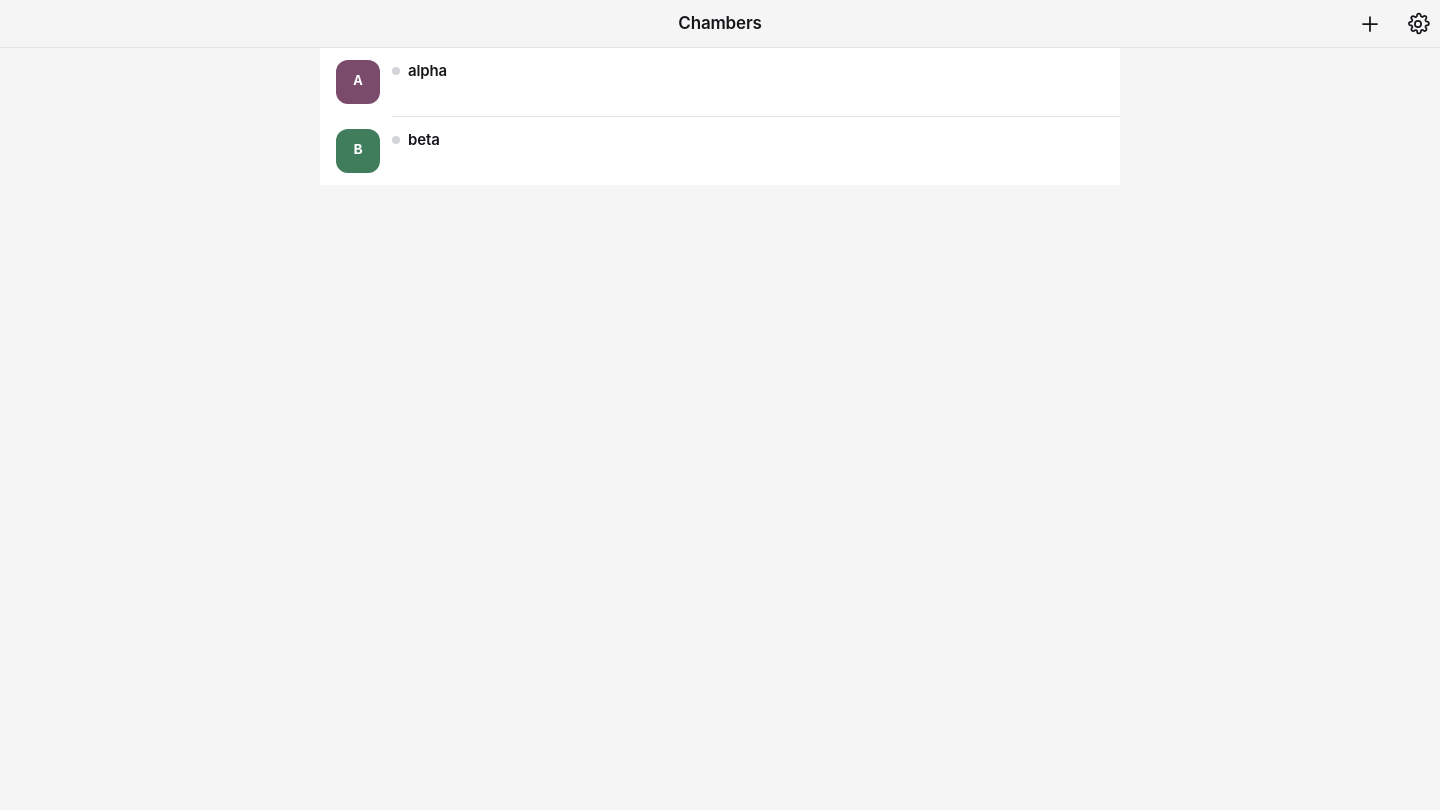
Scenario: new chamber › an owner gets a + button that opens the sheet
The image size is (1440, 810).
What coordinates should you click on to do the following:
click the button named "New chamber"
I would click on:
 (1370, 24)
Its box is [1348,2,1392,46].
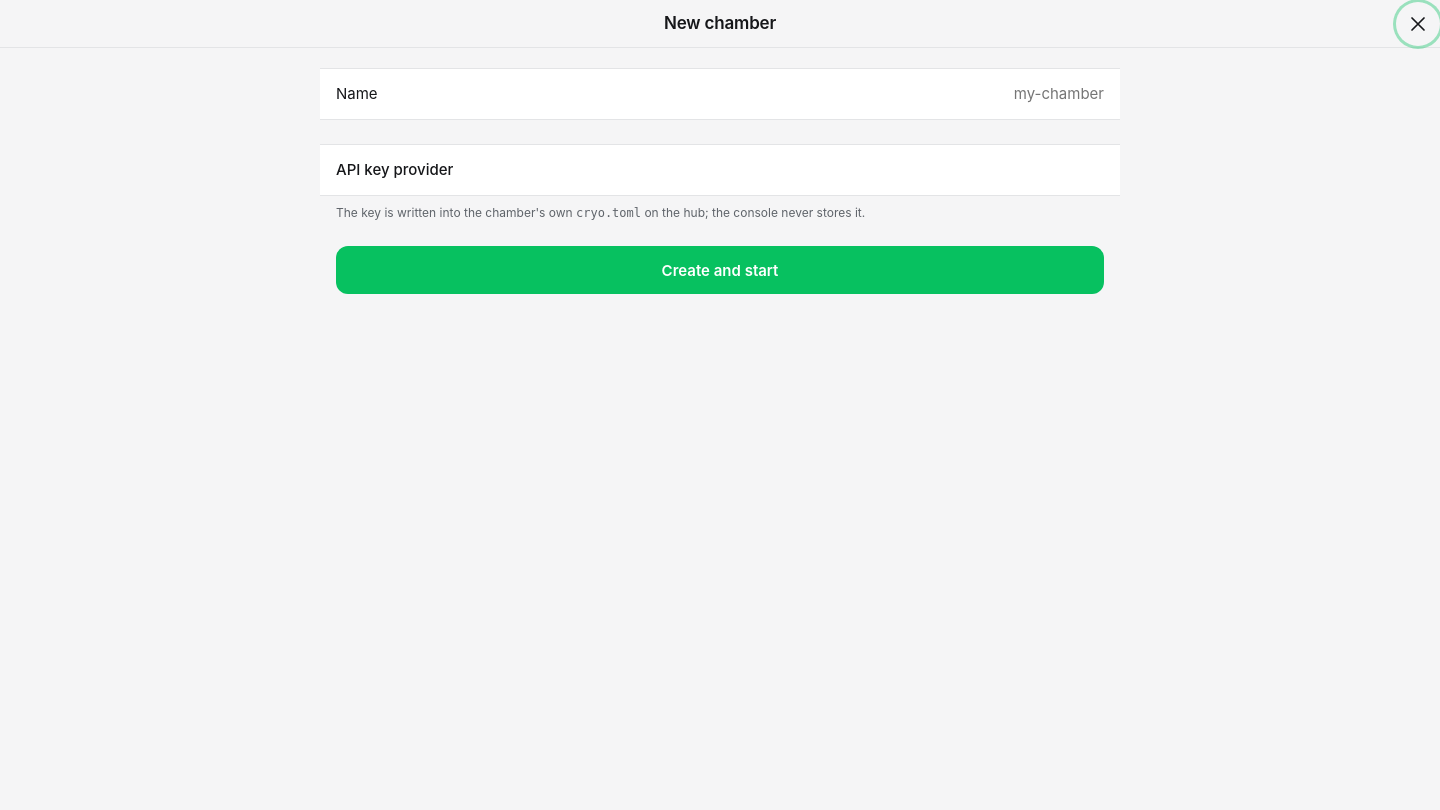
Expected: the dialog "New chamber" is shown
